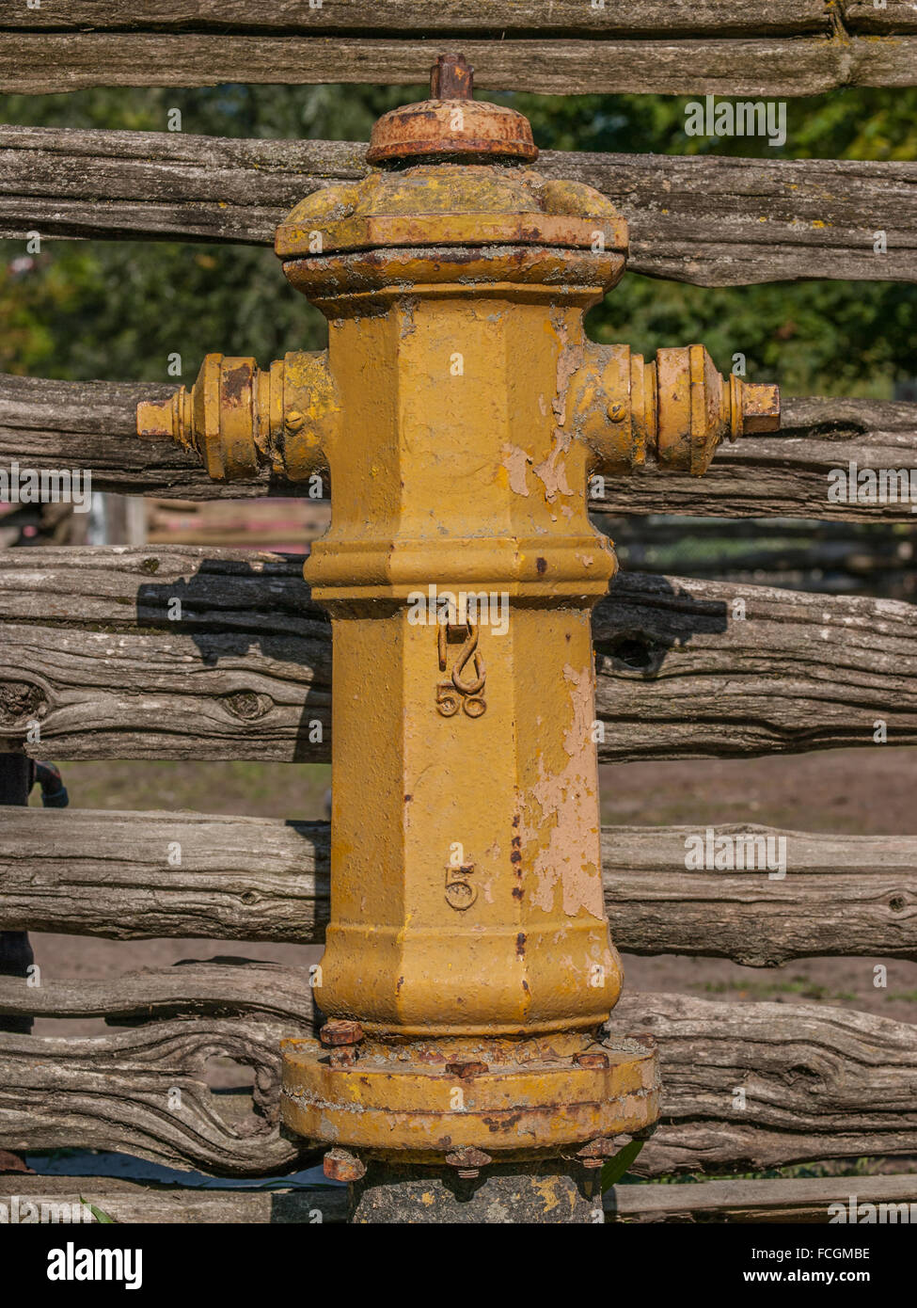FireHydrant: (142, 72, 778, 1187)
